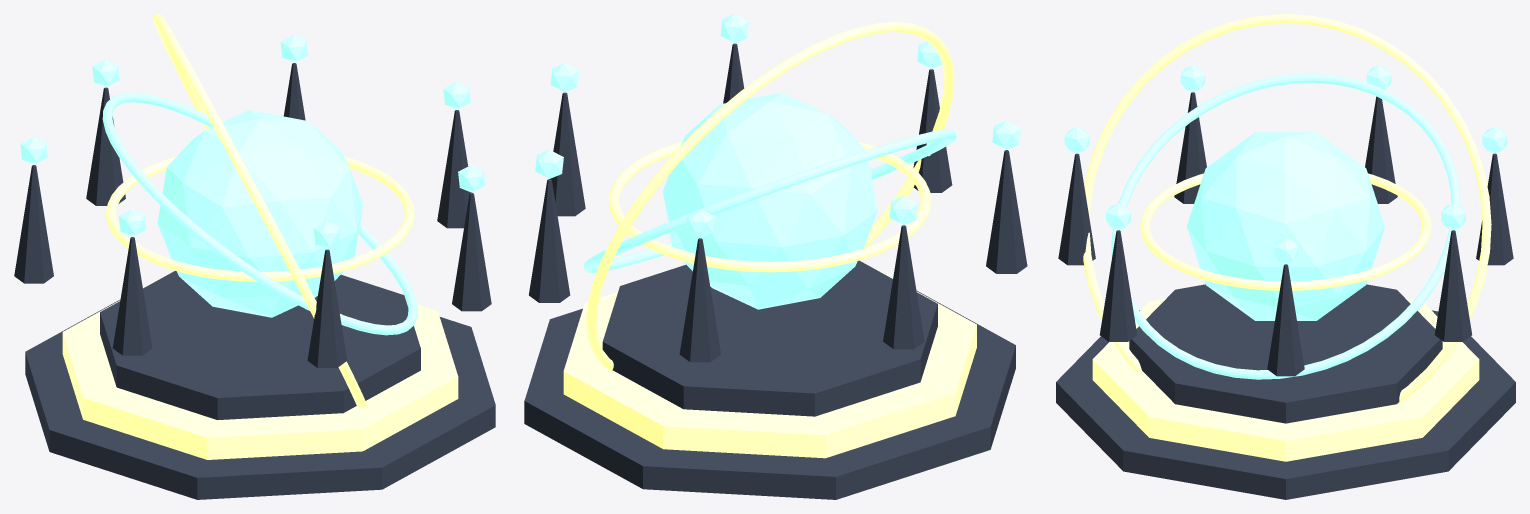
The model's file is gpu-blender-v7.glb.
The picture shows the model from 3 angles, left to right: view 1: azimuth 30°, elevation 25°; view 2: azimuth 150°, elevation 25°; view 3: azimuth 270°, elevation 25°; orthographic projection. The views are drawn at different scales.
Parts seen in each view (by area): view 1: Cylinder.002, SovereignCore_agent-mock-twin, Cylinder, Cylinder.001, Torus.001, Torus, Torus.002, Cone.006, Cone.003, Cone.004, Cone.005, Cone (+9 smaller); view 2: Cylinder.002, SovereignCore_agent-mock-twin, Cylinder, Cylinder.001, Torus.002, Torus.001, Torus, Cone.003, Cone.002, Cone.004, Cone.001, Cone (+8 smaller); view 3: SovereignCore_agent-mock-twin, Cylinder.002, Cylinder, Cylinder.001, Torus.002, Torus.001, Torus, Cone, Cone.001, Cone.006, Cone.005, Cone.002 (+8 smaller).
Part boxes in pixels (box(x1,y1,x2,y2)): Cylinder.002: box(100, 271, 420, 419); SovereignCore_agent-mock-twin: box(157, 110, 363, 317); Cylinder: box(25, 299, 495, 499); Cylinder.001: box(62, 279, 458, 459); Torus.001: box(102, 92, 418, 335); Torus: box(106, 156, 414, 281); Torus.002: box(153, 14, 366, 407); Cone.006: box(452, 193, 491, 311); Cone.003: box(14, 165, 53, 283); Cone.004: box(112, 237, 152, 355); Cone.005: box(307, 249, 347, 367); Cone: box(437, 110, 471, 228); Cylinder.002: box(602, 260, 937, 416); SovereignCore_agent-mock-twin: box(663, 92, 877, 309); Cylinder: box(524, 290, 1015, 499); Cylinder.001: box(563, 269, 976, 458); Torus.002: box(586, 21, 954, 371); Torus.001: box(584, 129, 956, 272); Torus: box(609, 141, 931, 272); Cone.003: box(883, 225, 924, 349); Cone.002: box(679, 238, 720, 362); Cone.004: box(986, 150, 1027, 273); Cone.001: box(529, 179, 570, 302); Cone: box(549, 92, 585, 216); SovereignCore_agent-mock-twin: box(1186, 132, 1385, 320); Cylinder.002: box(1129, 284, 1442, 423); Cylinder: box(1056, 310, 1515, 499); Cylinder.001: box(1092, 298, 1479, 461); Torus.002: box(1083, 14, 1491, 403); Torus.001: box(1111, 73, 1460, 379); Torus: box(1140, 173, 1431, 290); Cone: box(1267, 264, 1304, 376); Cone.001: box(1434, 230, 1472, 341); Cone.006: box(1099, 230, 1137, 341); Cone.005: box(1058, 153, 1095, 265); Cone.002: box(1476, 153, 1513, 265).
Bounding box in the file's own units: 4.41 × 3.72 × 4.4.
